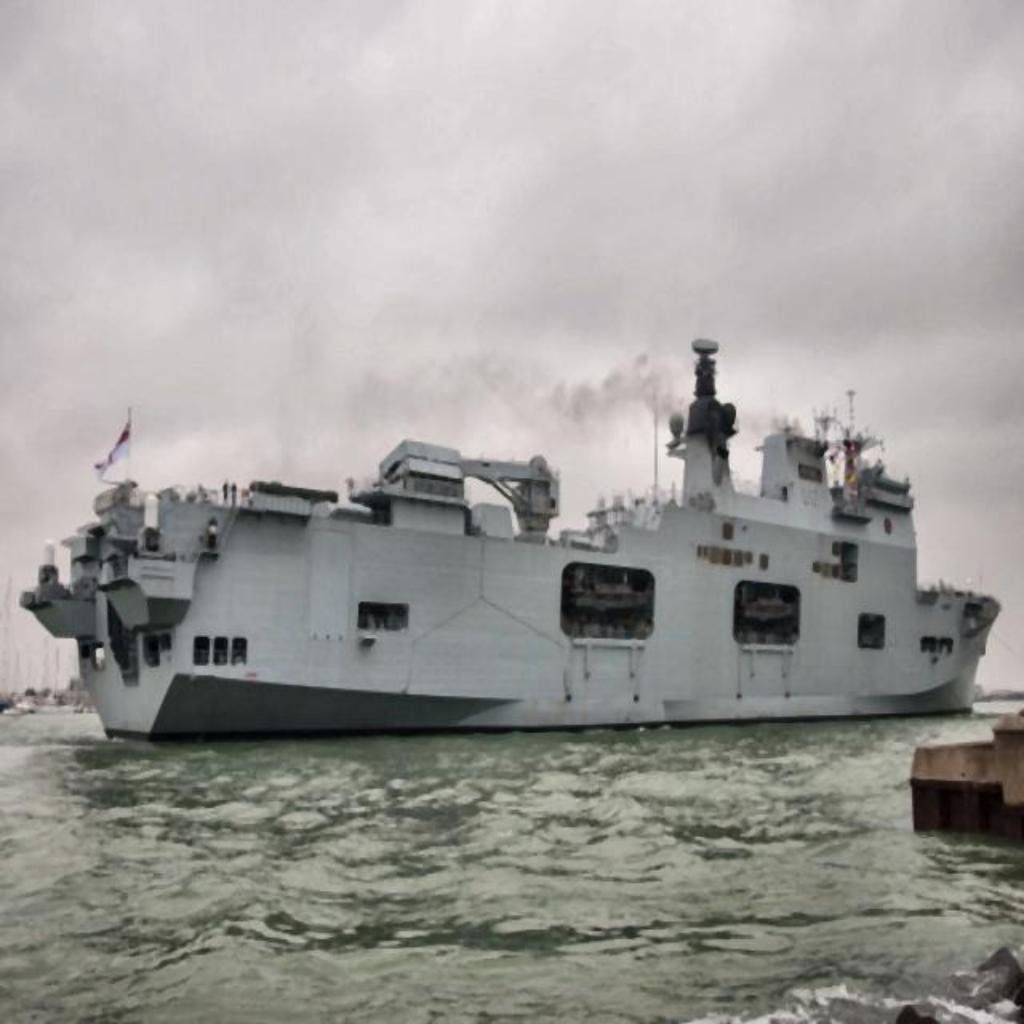Warship: (15, 324, 1007, 760)
